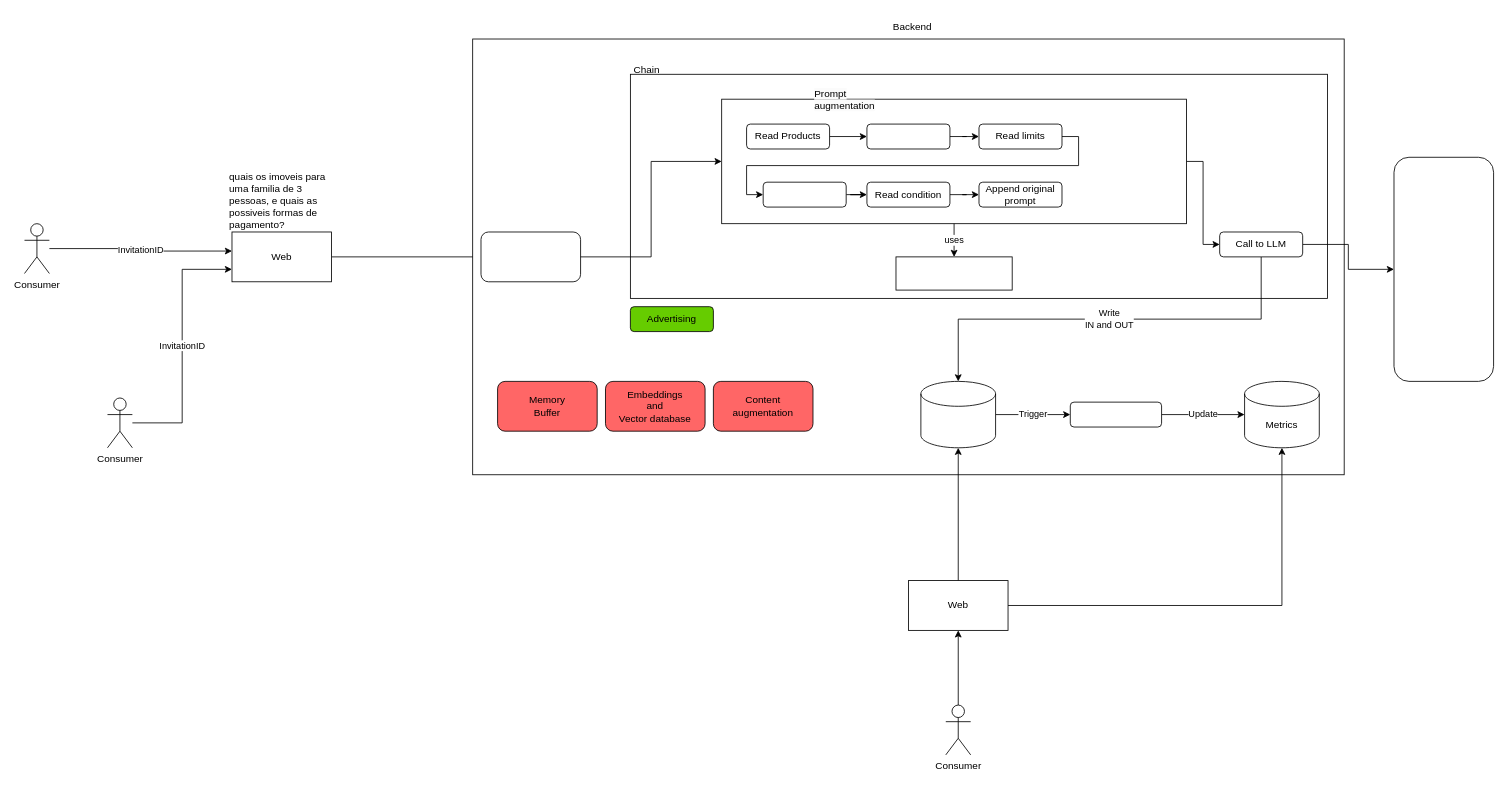
This 1508x787 diagram has some shape labels left out. Each missing label, with the centre of its shape:
\chat: the point at 530,256
Calculate token: the point at 1115,414
chat: the point at 958,414
OpenAI "daVinci": the point at 1443,268
Prompt template: the point at 953,273
Read Addons: the point at 908,136
Read pitch: the point at 804,194
